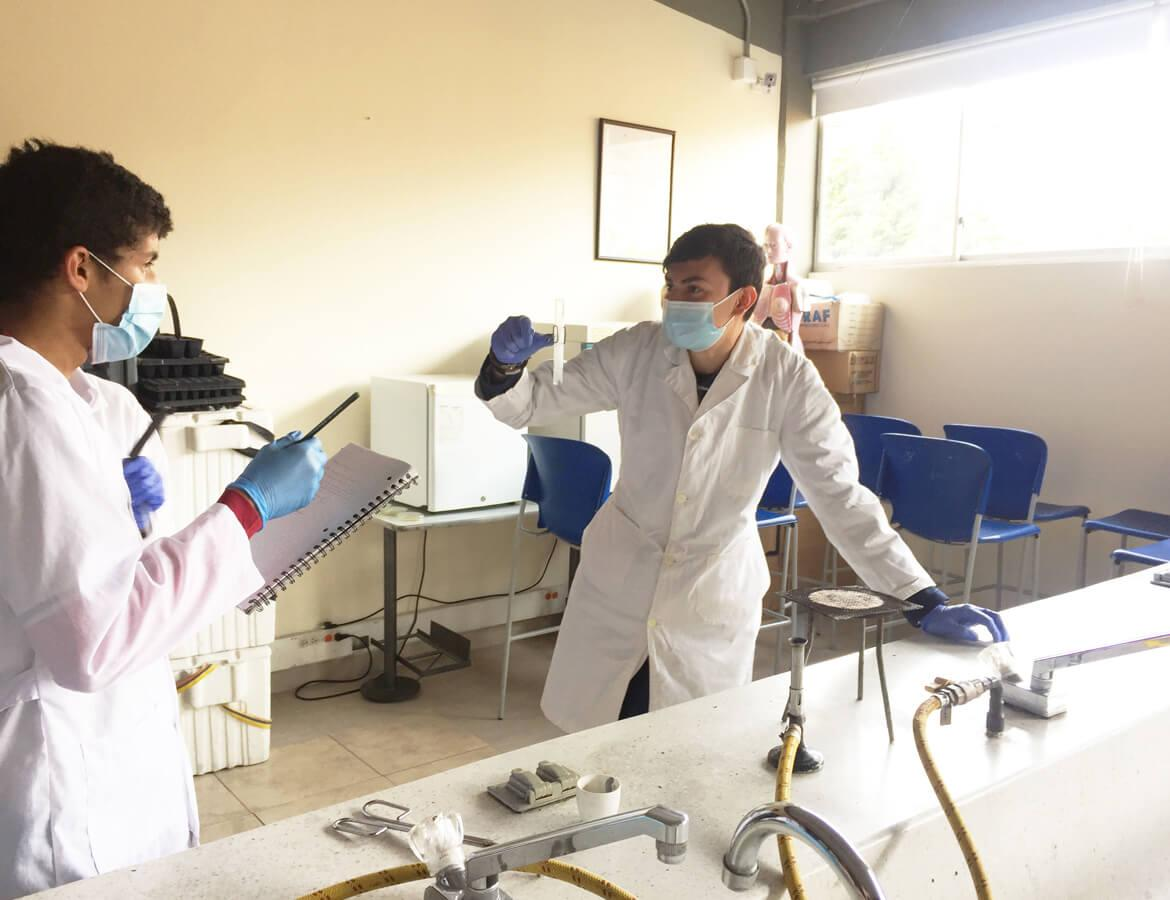Bata-Correcta: (466, 214, 1024, 766), (2, 126, 270, 900)
